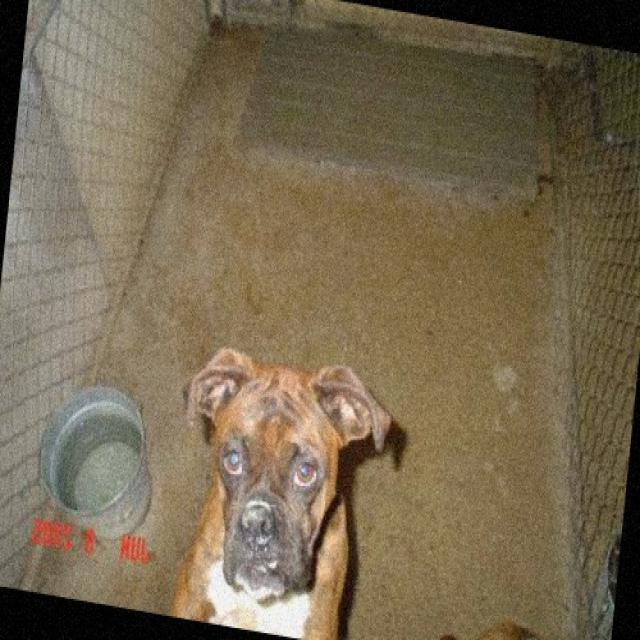sad: (160, 319, 397, 640)
